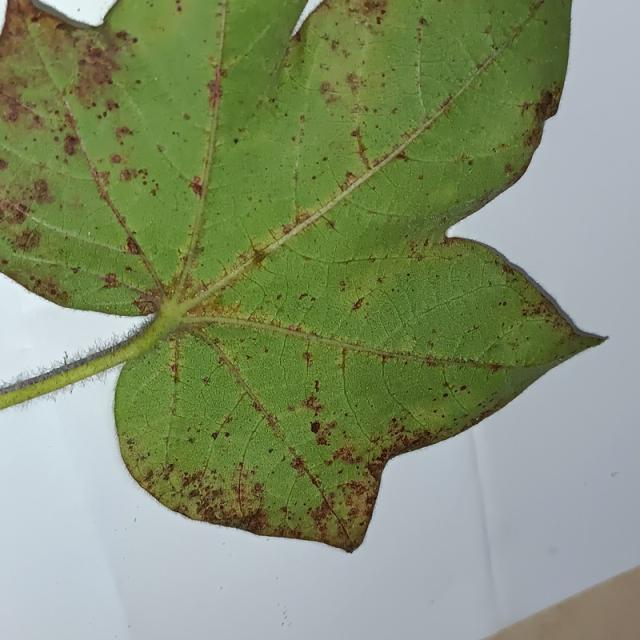Bacterial_Blight: (318, 474, 372, 540), (15, 271, 70, 306), (175, 467, 219, 506), (0, 89, 38, 129), (229, 505, 272, 534), (309, 494, 339, 533), (307, 414, 338, 446), (533, 89, 556, 122), (87, 62, 113, 89), (119, 165, 149, 187), (14, 228, 41, 252), (353, 132, 371, 168), (331, 445, 360, 466), (131, 295, 160, 315), (3, 202, 28, 225), (302, 394, 324, 417), (205, 79, 222, 108), (289, 210, 313, 229), (32, 178, 51, 202), (182, 302, 208, 318), (187, 175, 207, 195), (62, 135, 80, 157), (361, 0, 385, 15), (249, 248, 269, 266), (92, 169, 111, 187), (345, 72, 362, 91), (337, 347, 347, 376), (125, 236, 141, 254), (115, 126, 133, 140), (291, 456, 306, 472), (102, 273, 119, 287), (104, 99, 120, 113), (324, 217, 338, 232), (190, 243, 205, 257), (115, 30, 132, 42), (423, 355, 439, 367), (302, 351, 313, 368), (351, 297, 364, 311), (119, 168, 132, 182), (309, 421, 321, 434), (344, 171, 356, 183), (281, 223, 293, 235), (504, 163, 515, 175), (110, 153, 122, 164), (320, 81, 331, 93), (213, 138, 225, 149), (298, 293, 311, 303), (490, 363, 501, 373), (149, 186, 158, 197), (0, 158, 8, 170), (313, 379, 320, 392), (350, 129, 360, 138), (418, 17, 428, 26), (126, 437, 136, 446), (484, 24, 492, 35), (254, 483, 262, 494), (211, 431, 219, 440), (70, 266, 79, 274), (375, 16, 383, 25), (171, 364, 178, 374), (183, 113, 191, 120), (176, 5, 183, 13), (125, 266, 133, 273), (187, 437, 195, 444), (467, 159, 474, 166), (299, 115, 305, 123), (459, 385, 467, 391), (499, 300, 507, 306), (442, 392, 449, 398), (233, 137, 239, 144), (417, 174, 423, 180), (224, 432, 230, 438), (268, 448, 274, 454), (264, 347, 269, 353), (322, 157, 328, 162)
Cotton: (0, 0, 601, 550)
